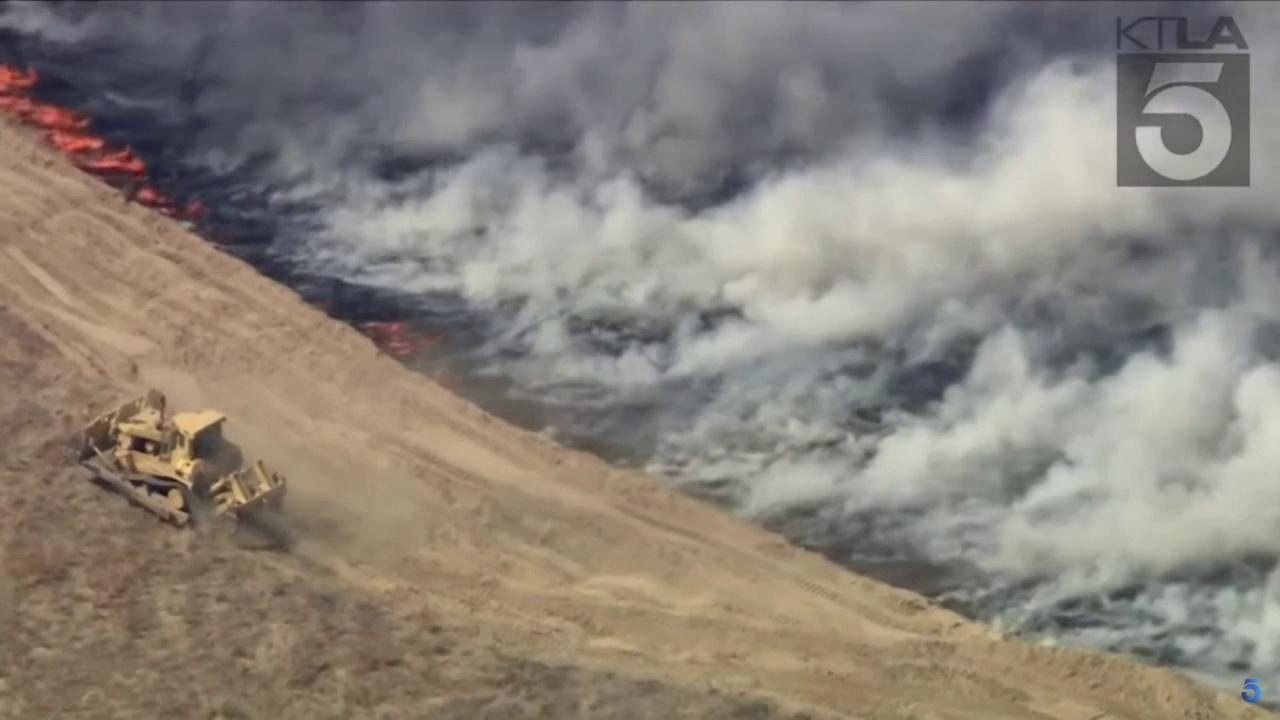fire: (0, 62, 149, 175), (359, 319, 446, 359), (136, 187, 203, 218)
smoke: (0, 0, 1280, 714)
